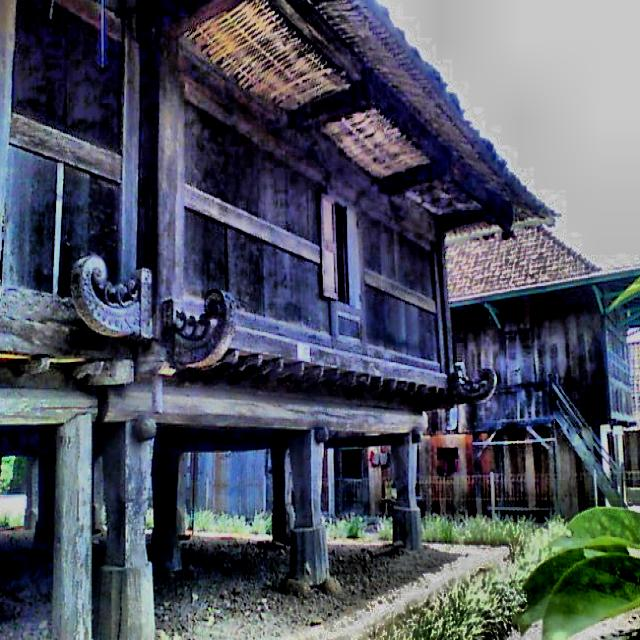column: (96, 423, 155, 640), (53, 414, 92, 640), (290, 430, 328, 586), (151, 451, 183, 571), (393, 435, 421, 550), (33, 452, 55, 558), (272, 448, 292, 542)
ornamen: (70, 255, 237, 375)
roof: (149, 0, 561, 235)
wall: (0, 0, 448, 388)
window: (321, 192, 360, 309)
